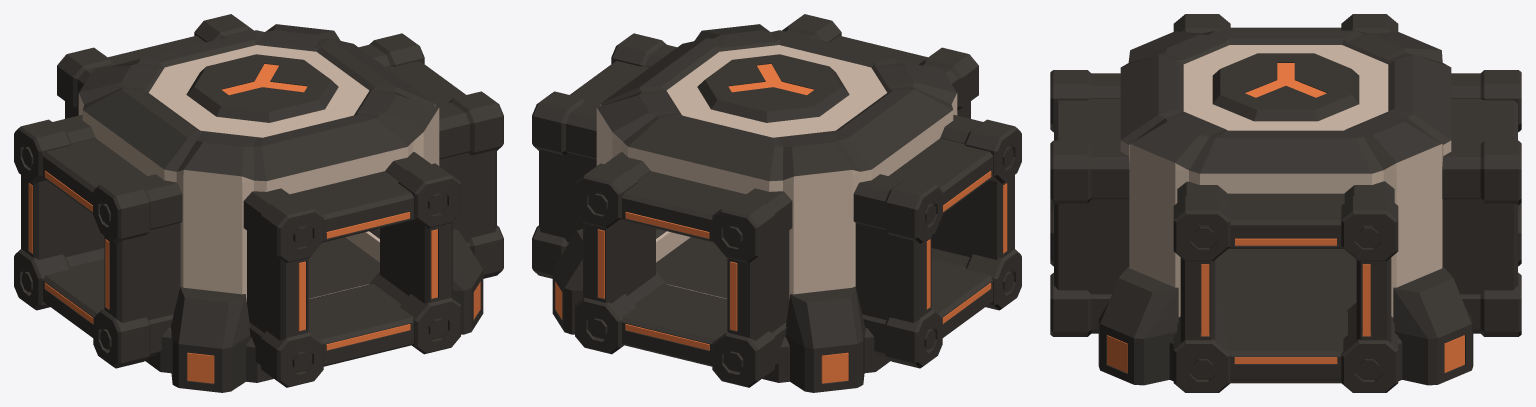
The model's file is Merger.fbx.
The picture shows the model from 3 angles, left to right: view 1: azimuth 30°, elevation 25°; view 2: azimuth 150°, elevation 25°; view 3: azimuth 270°, elevation 25°; orthographic projection. The views are drawn at different scales.
Visible parts, largest first — view 1: Body, Port.003, Port.001, Head, Base, Port, Light, Port.002; view 2: Body, Port.002, Port.001, Head, Base, Port, Light, Port.003; view 3: Body, Port, Base, Port.003, Port.002, Head, Light, Port.001.
Part boxes in pixels (box(x1,y1,x2,y2)): Body: box(78, 24, 439, 301); Port.003: box(243, 152, 460, 387); Port.001: box(14, 114, 182, 368); Head: box(152, 45, 369, 137); Base: box(145, 228, 483, 392); Port: box(359, 33, 503, 278); Light: box(28, 64, 480, 383); Port.002: box(57, 14, 253, 118); Body: box(596, 24, 957, 299); Port.002: box(575, 152, 792, 387); Port.001: box(853, 114, 1021, 368); Head: box(666, 45, 883, 137); Base: box(552, 228, 890, 392); Port: box(532, 33, 676, 278); Light: box(555, 64, 1007, 383); Port.003: box(782, 14, 978, 118); Body: box(1120, 30, 1451, 317); Port: box(1173, 181, 1398, 392); Base: box(1098, 249, 1473, 385); Port.003: box(1050, 70, 1129, 336); Port.002: box(1442, 70, 1521, 336); Head: box(1183, 46, 1388, 130); Light: box(1107, 63, 1464, 372); Port.001: box(1173, 14, 1398, 34).
Size of the model in its own units: 1.01 by 0.5353 by 1.01.
Materials: 1 (1 with a texture image).
